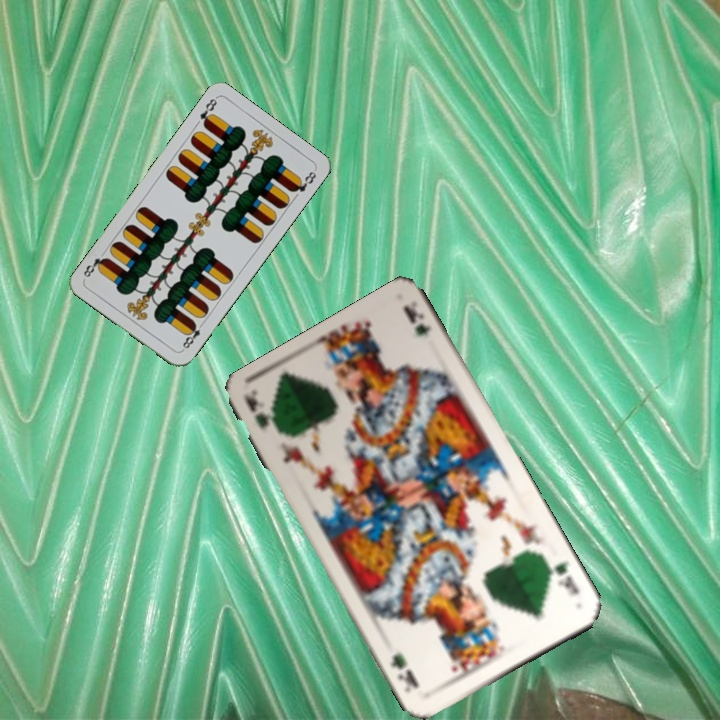E8: (177, 318, 207, 353), (196, 93, 220, 129)
GK: (540, 555, 582, 599), (241, 389, 272, 432)
